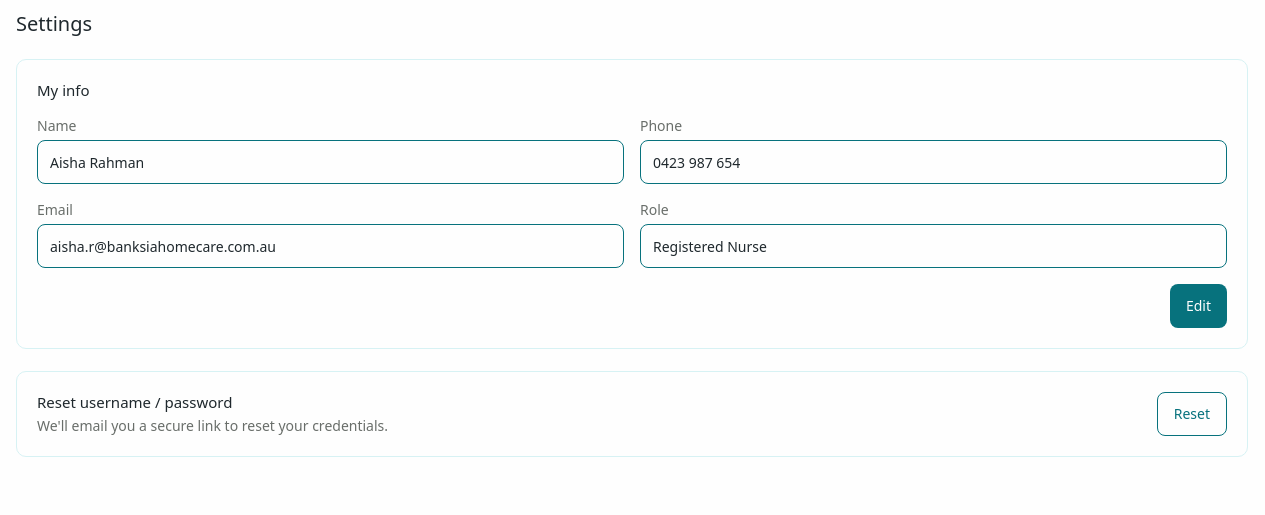
Test: [CAR-09][AC-05] a failed save is reported, not hidden › [CAR-09][AC-05] a failed save says so, keeps the edits and the fields open, and never says 'Saved.'
Step 1. Click the button "Edit" → coordinates (1198, 306), box [1170, 284, 1227, 328]
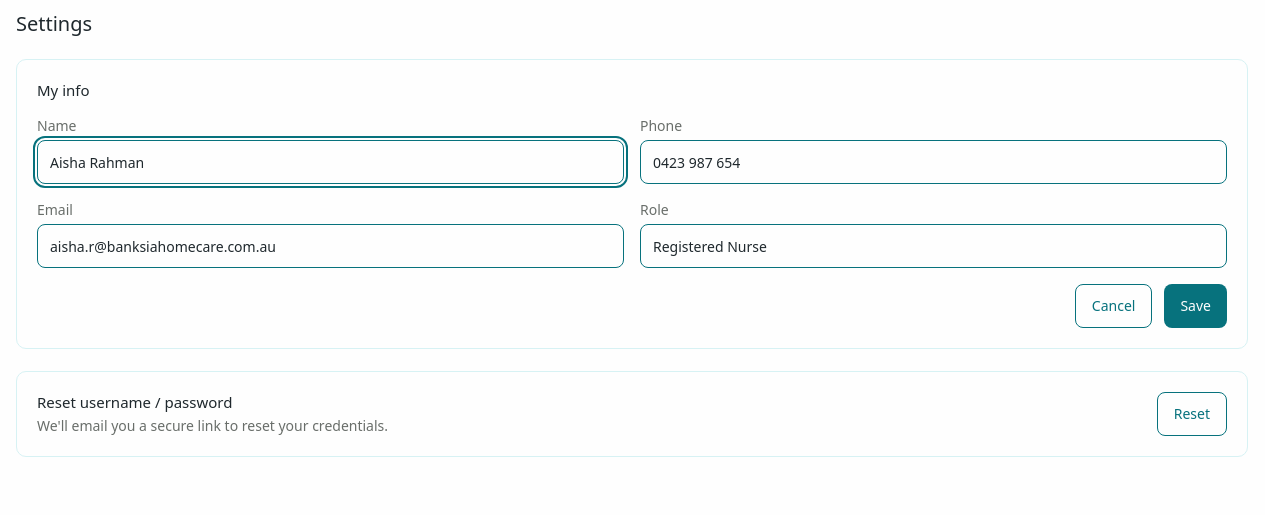
Step 2. Replace the text in the field labelled "Phone" with "0400 111 222" → coordinates (934, 162), box [640, 140, 1227, 184]
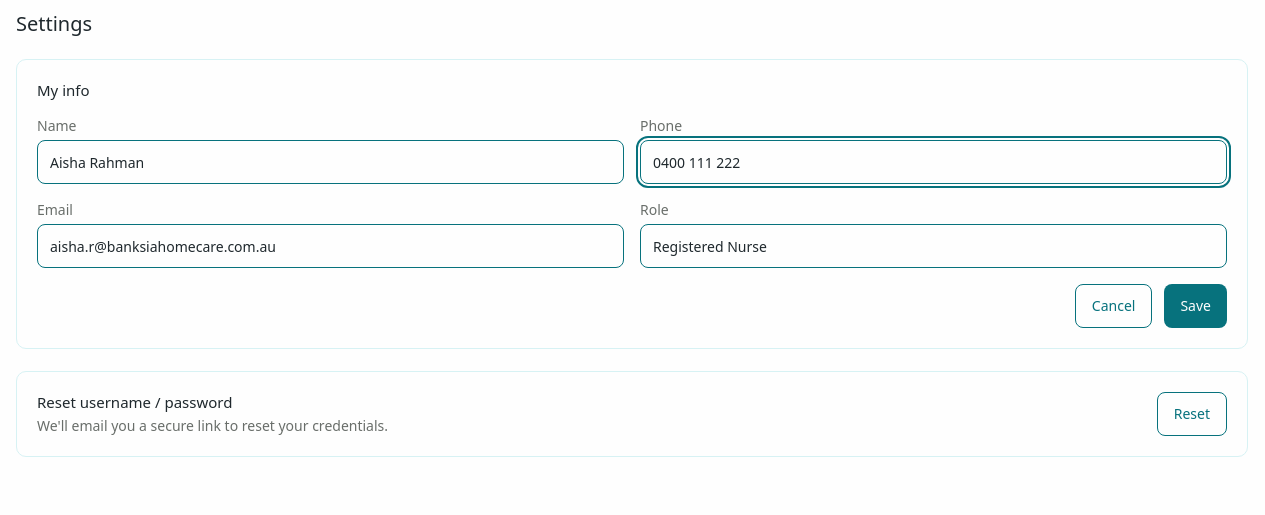
Step 3. Click the button "Save" → coordinates (1196, 306), box [1164, 284, 1227, 328]
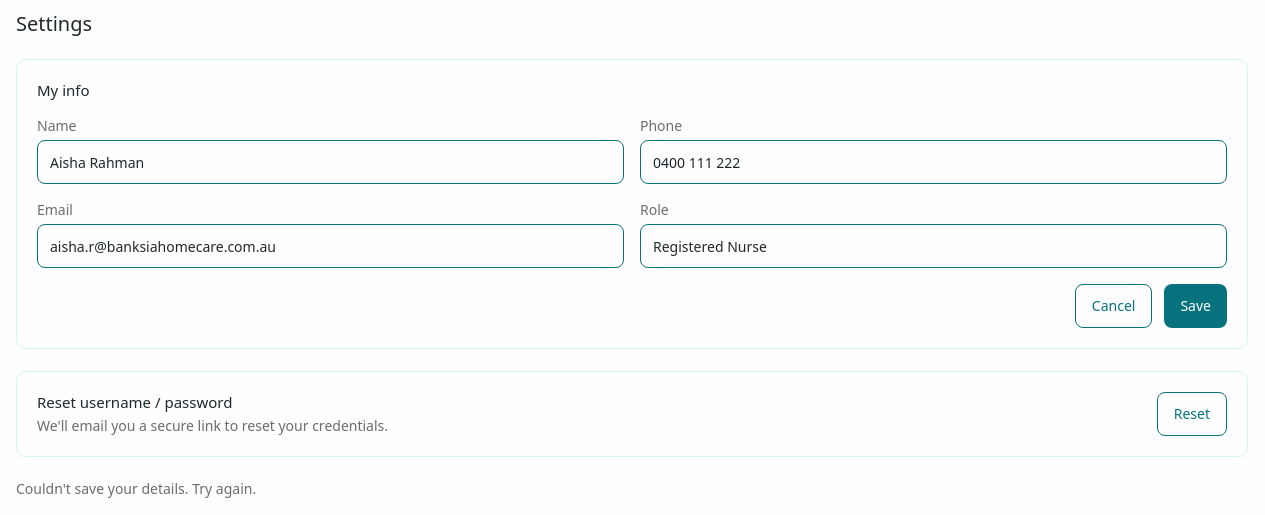
Check: the text "Couldn't save your details. Try again." is shown, box [16, 479, 256, 498]
